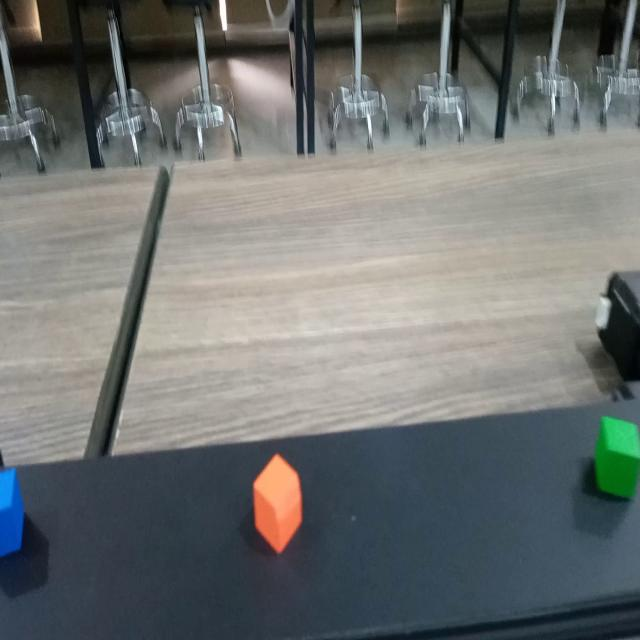cube: (586, 406, 640, 505), (0, 453, 36, 565)
